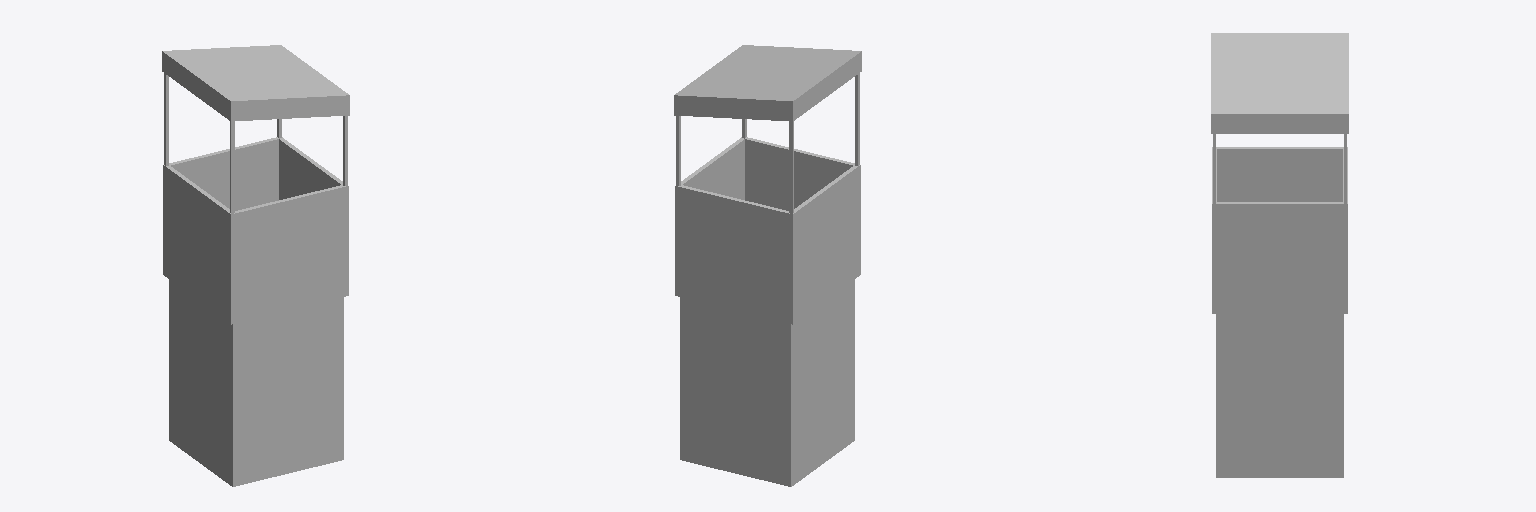
The model's file is Cabin-I-b.obj.
The picture shows the model from 3 angles: view 1: azimuth 30°, elevation 25°; view 2: azimuth 150°, elevation 25°; view 3: azimuth 270°, elevation 25°; orthographic projection.
Parts seen in each view (by area): view 1: Cabin-I; view 2: Cabin-I; view 3: Cabin-I.
Part boxes in pixels (x1,y1,x2,y2): Cabin-I: (162, 45, 349, 486); Cabin-I: (674, 45, 861, 486); Cabin-I: (1211, 33, 1348, 477).
Size of the model in its own units: 2.8 by 8.73 by 2.8.